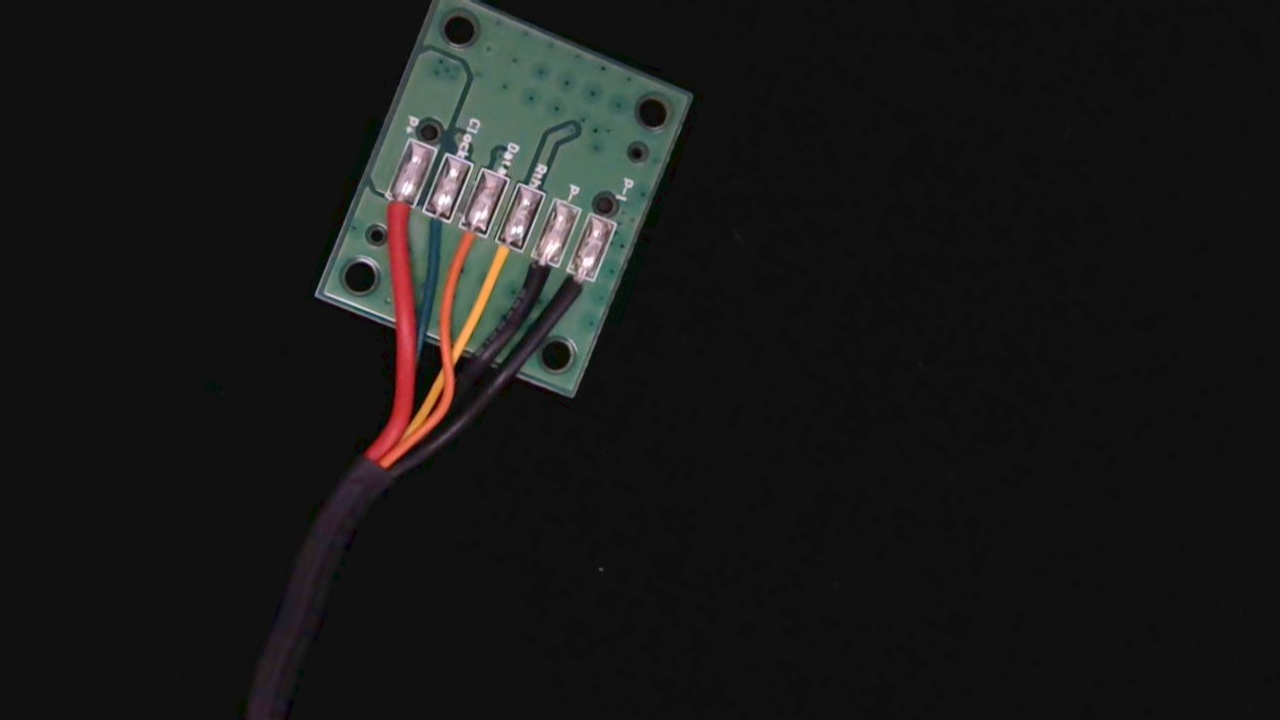Black: (512, 238, 565, 309)
Black1: (544, 251, 601, 328)
Green: (407, 195, 460, 261)
Orange: (441, 210, 488, 277)
Red: (371, 182, 421, 246)
Yellow: (477, 223, 529, 294)
